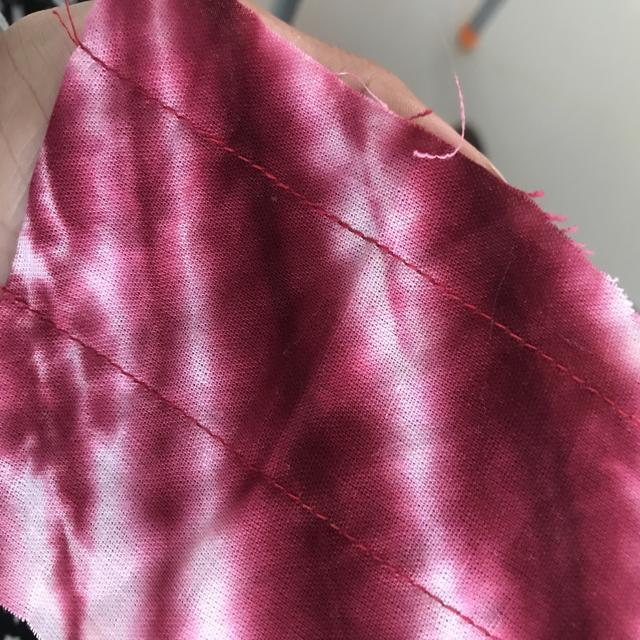good: (181, 137, 308, 206), (271, 506, 371, 554)
